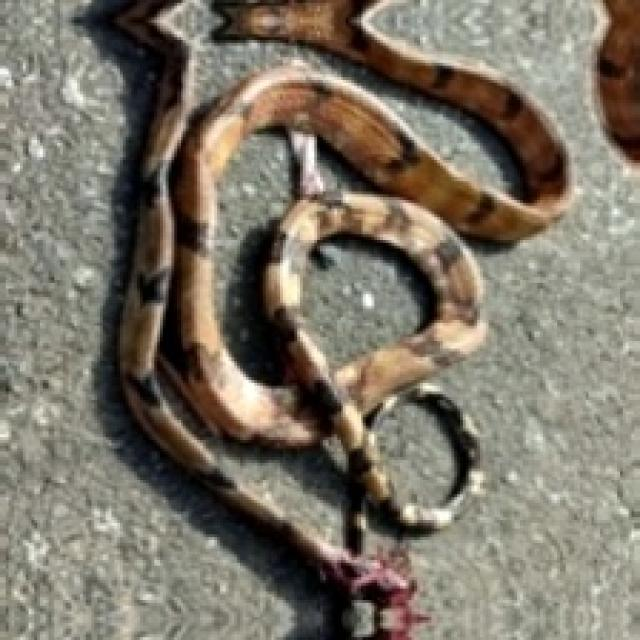dog-toothed cat snake: (111, 0, 571, 637)
